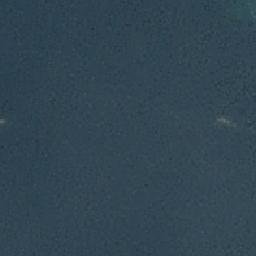debris: (214, 116, 235, 125)
